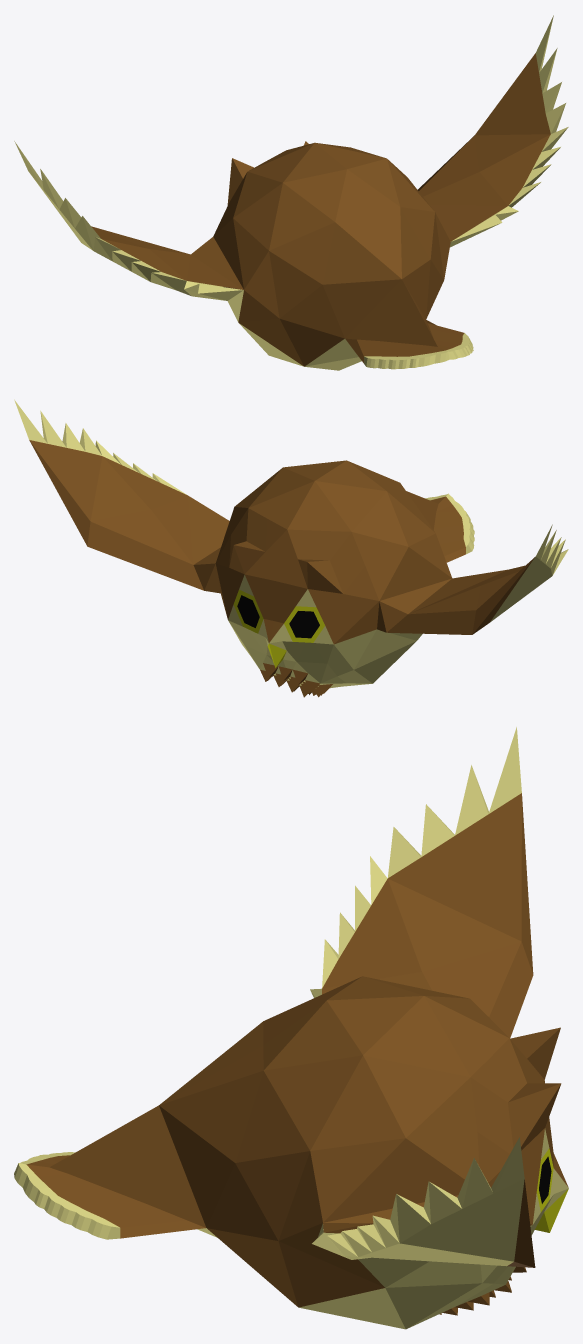
The model's file is Owl_Wings_Up.glb.
3 renders of one model, top to bottom at view 1: azimuth 30°, elevation 25°; view 2: azimuth 150°, elevation 25°; view 3: azimuth 270°, elevation 25°, orthographic. The views are drawn at different scales.
Parts seen in each view (by area): view 1: Owl.005; view 2: Owl.005; view 3: Owl.005.
Part boxes in pixels (box(x1,y1,x2,y2)): Owl.005: box(14, 15, 568, 370); Owl.005: box(14, 399, 568, 697); Owl.005: box(14, 727, 568, 1329).
Size of the model in its own units: 4.89 by 2.22 by 2.87.
